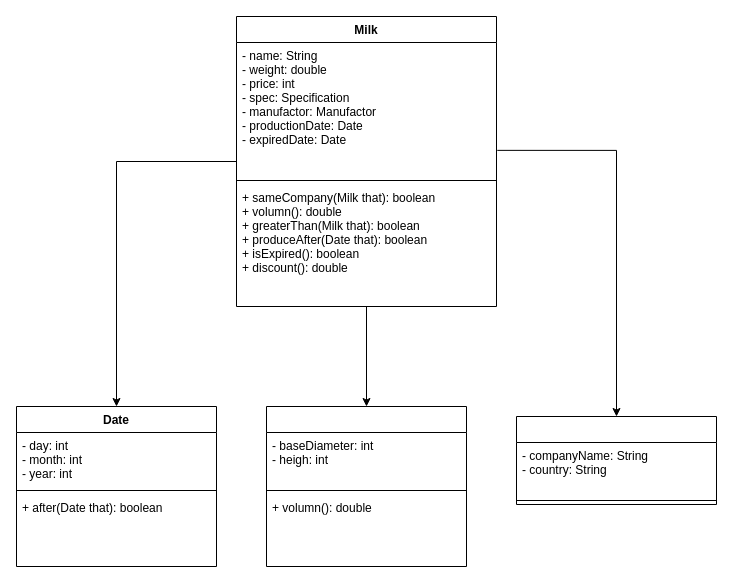
The diagram is 733 pixels wide and 583 high, and some of its shapes have lost their labels. The box of each missing label's shape, as (x1, y1, x2, y2) in pixels:
Manufactor: (516, 416, 716, 504)
Specification: (266, 406, 466, 566)
